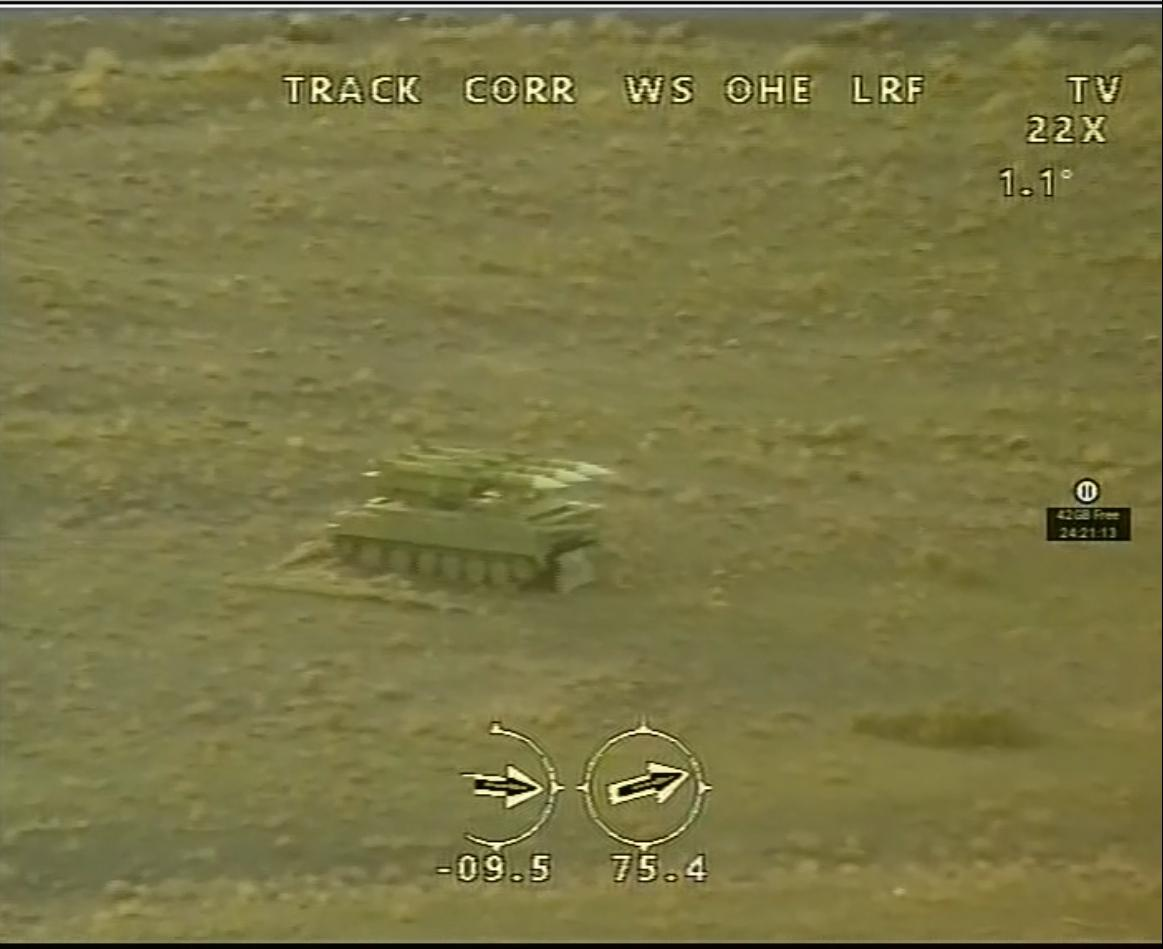armored_car: (328, 443, 622, 594)
